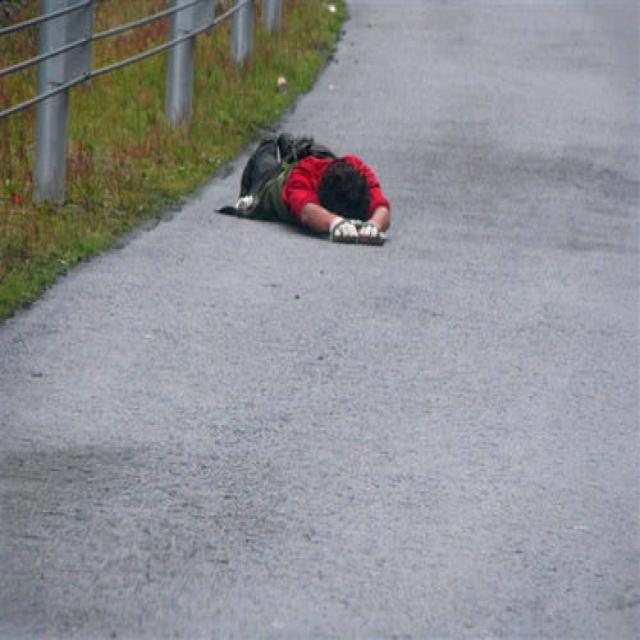fall: (238, 130, 384, 244)
